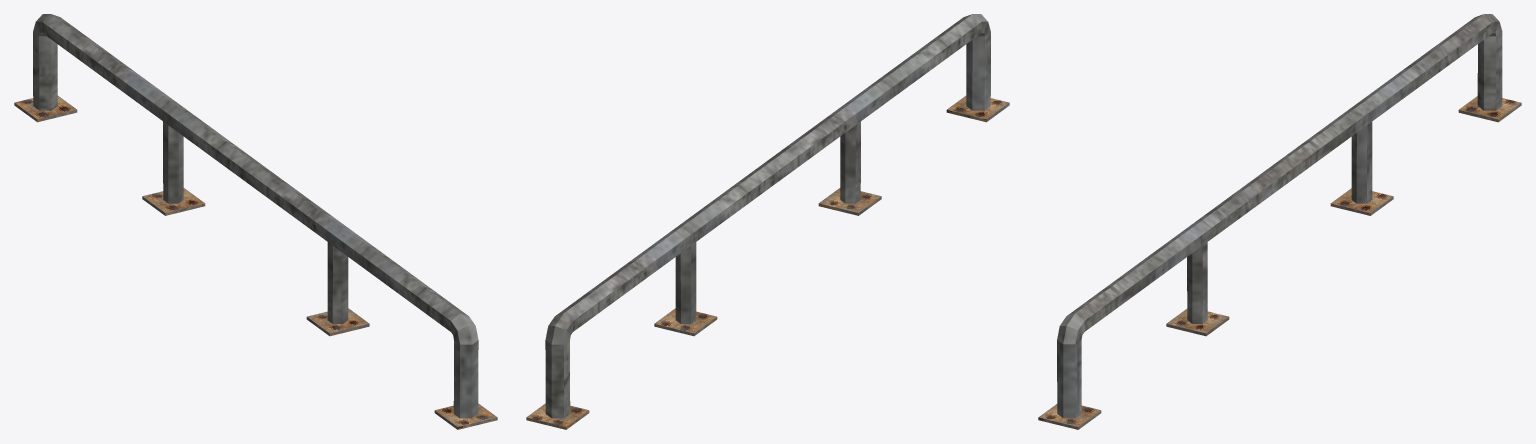
The model's file is GrindRail.fbx.
3 renders of one model, left to right at view 1: azimuth 30°, elevation 25°; view 2: azimuth 150°, elevation 25°; view 3: azimuth 330°, elevation 25°, orthographic.
Visible parts, largest first — view 1: rust; view 2: rust; view 3: rust.
Part boxes in pixels (x1=…): rust: x1=14, y1=14, x2=497, y2=429; rust: x1=526, y1=14, x2=1009, y2=429; rust: x1=1038, y1=14, x2=1521, y2=429.
Bounding box in the file's own units: 11.3 × 26.81 × 217.
